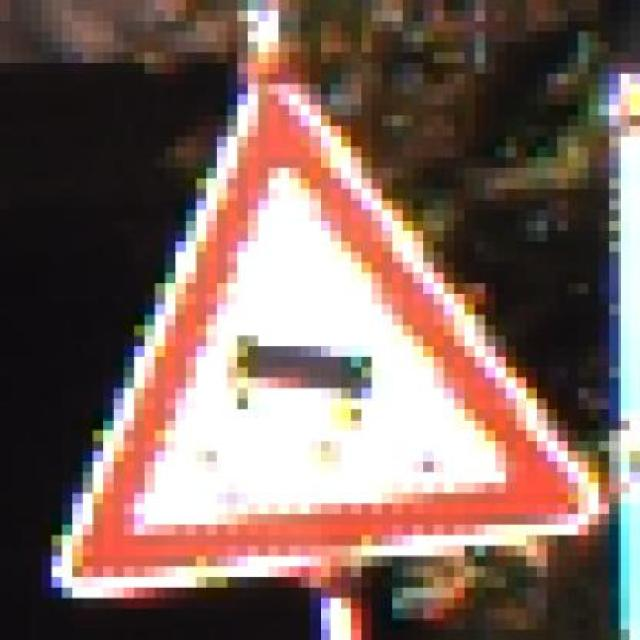Slippery Road Ahead: (42, 73, 609, 598)
